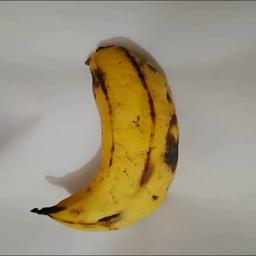Banana Semifresh: (65, 41, 184, 233), (31, 160, 182, 229)
